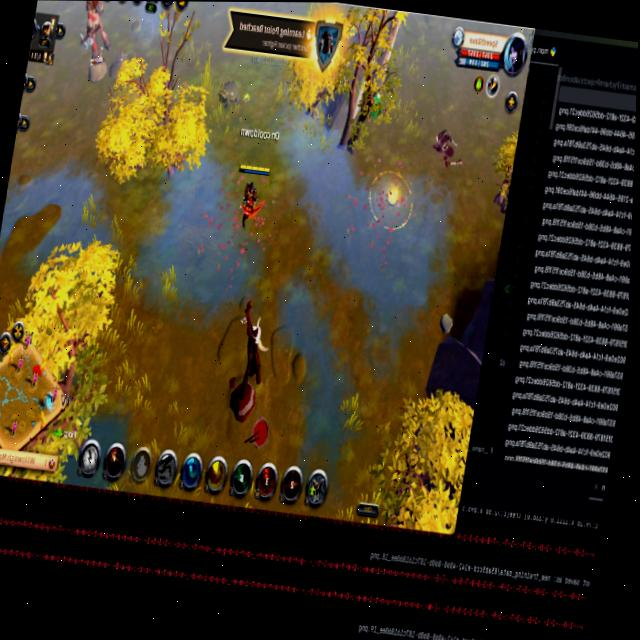ore: (68, 1, 121, 76), (212, 74, 244, 115)
red: (226, 156, 276, 231)
